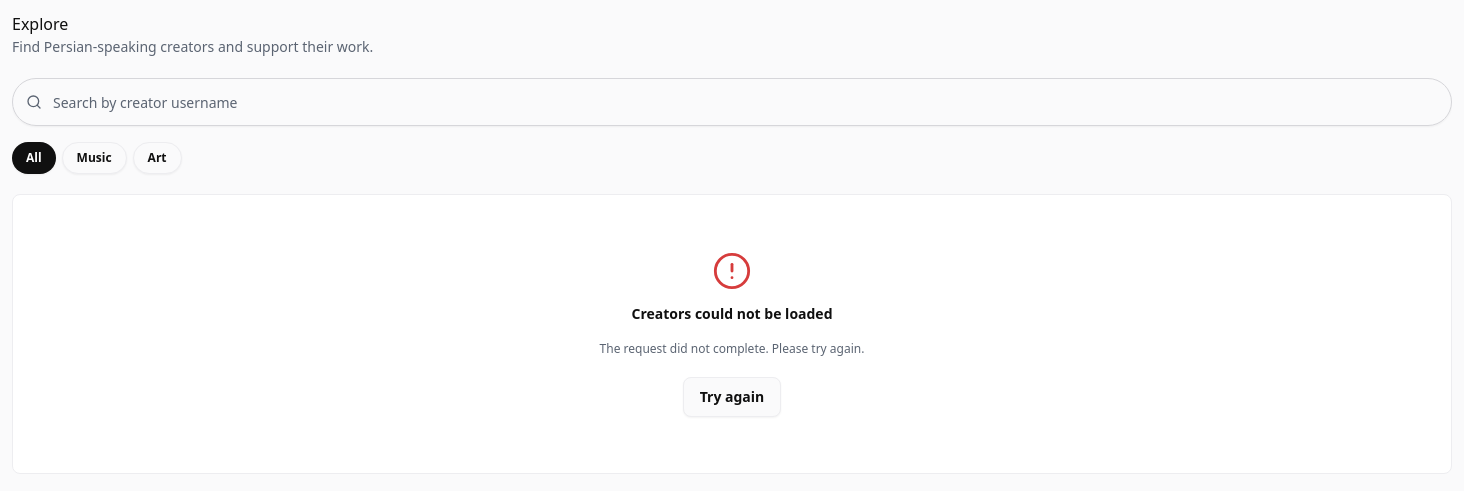
Test case: ExploreView › renders an error with a retry instead of an empty list
Check: the text "Creators could not be loaded" is shown, box [632,303,832,325]
Click the button "Try again" at (732, 397), box [683,377,781,417]
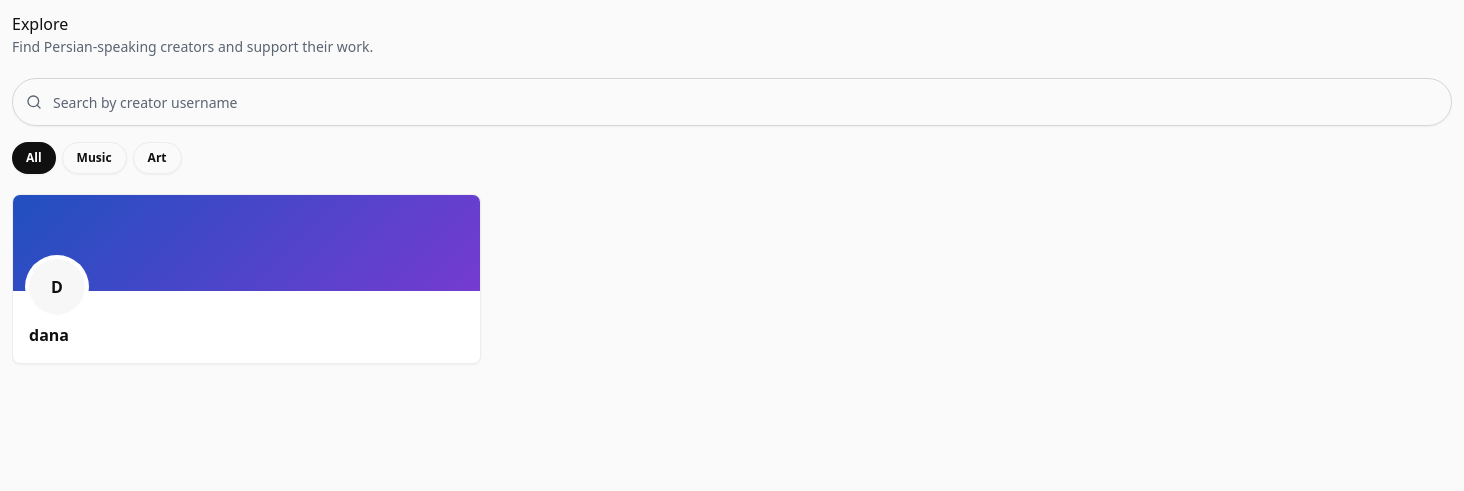
Check: the heading "dana" is shown, box [29,324,69,346]
